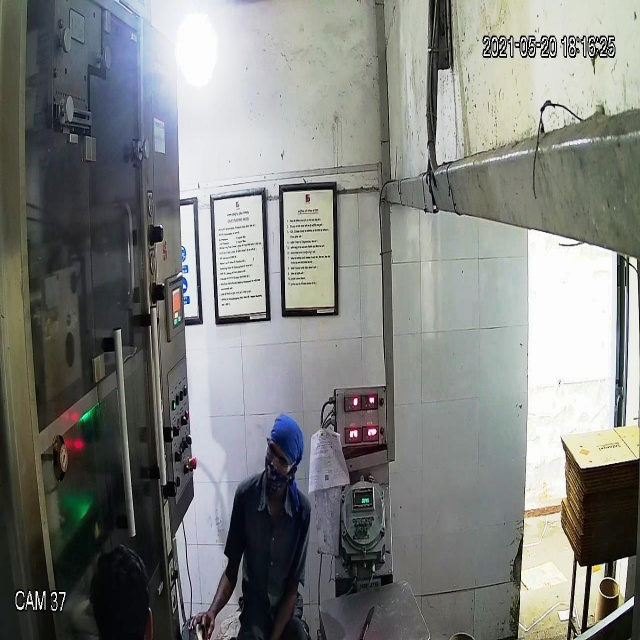Gafas: (263, 436, 299, 480)
